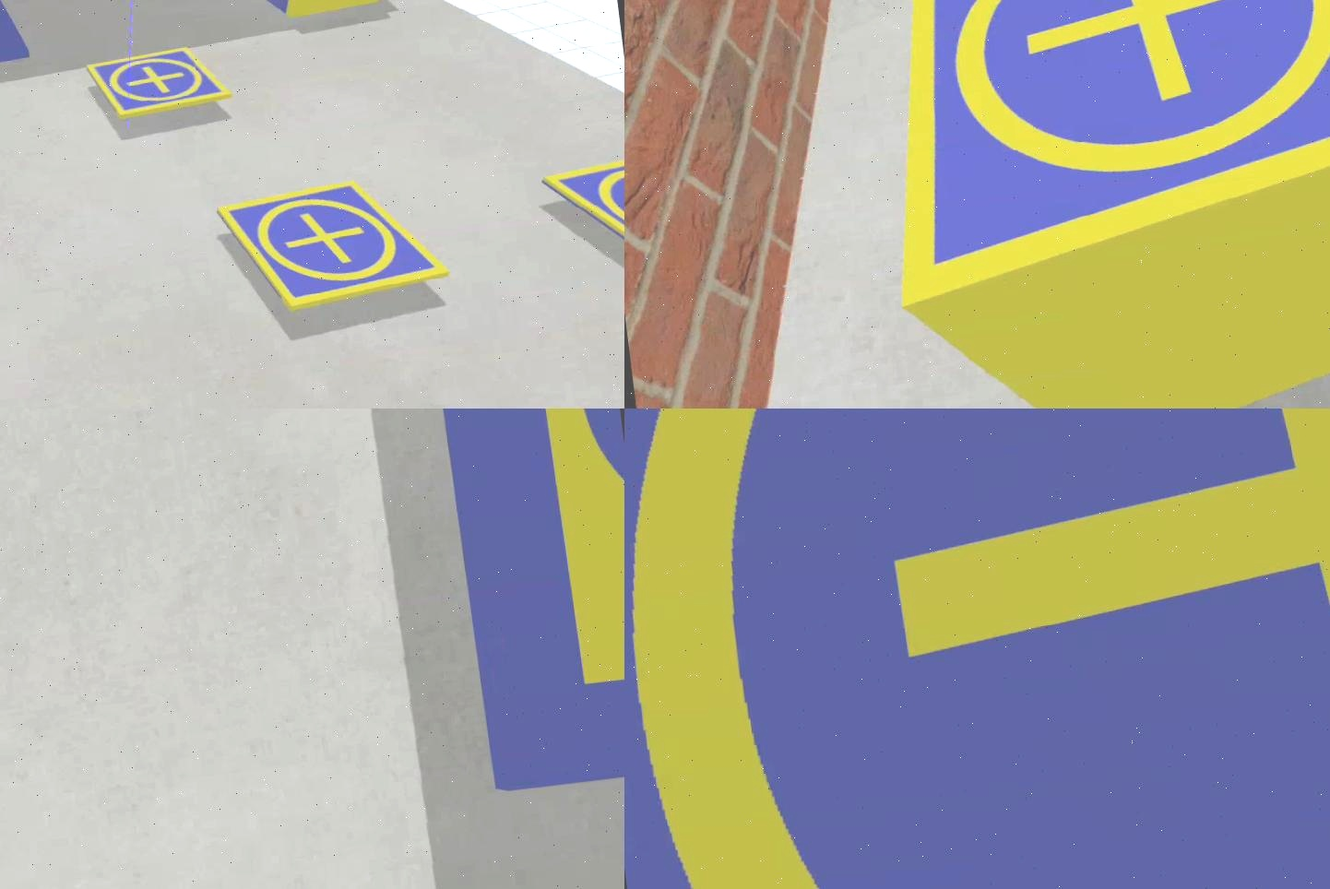large_base: (426, 409, 624, 790)
small_base: (624, 409, 1330, 889), (845, 1, 1330, 312), (219, 173, 455, 315), (86, 44, 232, 123), (538, 159, 624, 266)
